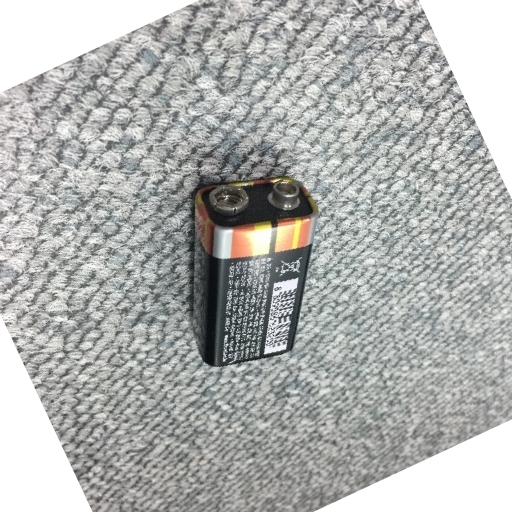Battery_3: (177, 163, 330, 381)
